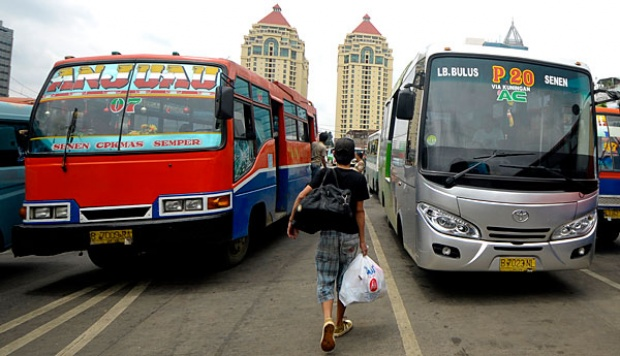plate: (89, 230, 132, 246), (499, 256, 534, 273)
